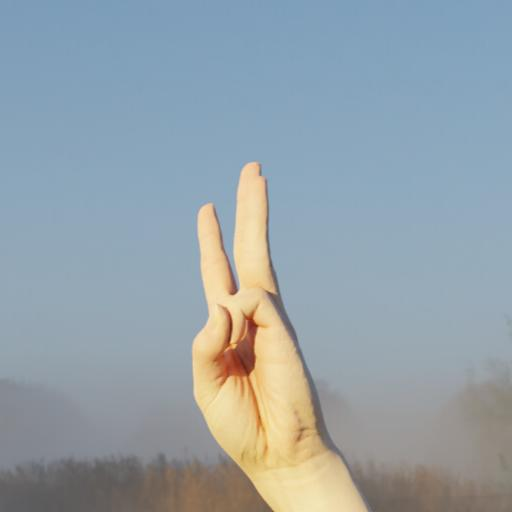W: (172, 155, 351, 475)
